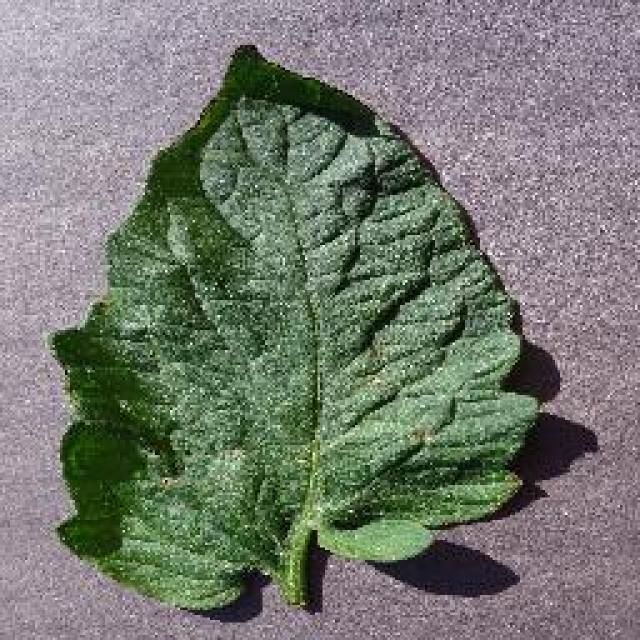Tomato___Target_Spot: (52, 48, 535, 610)
